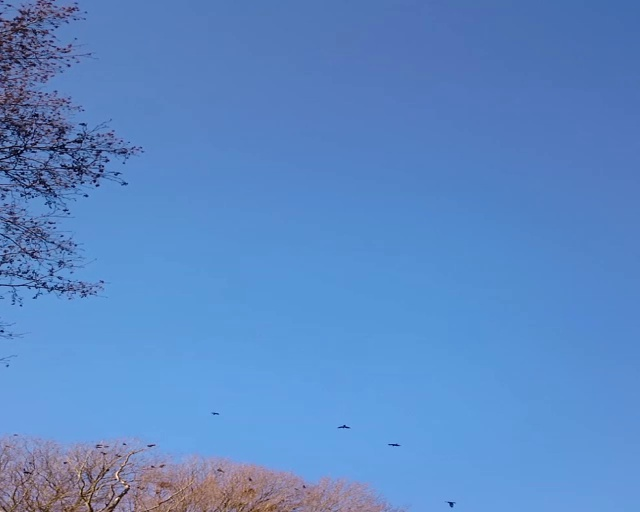BIRD: (389, 442, 401, 446)
